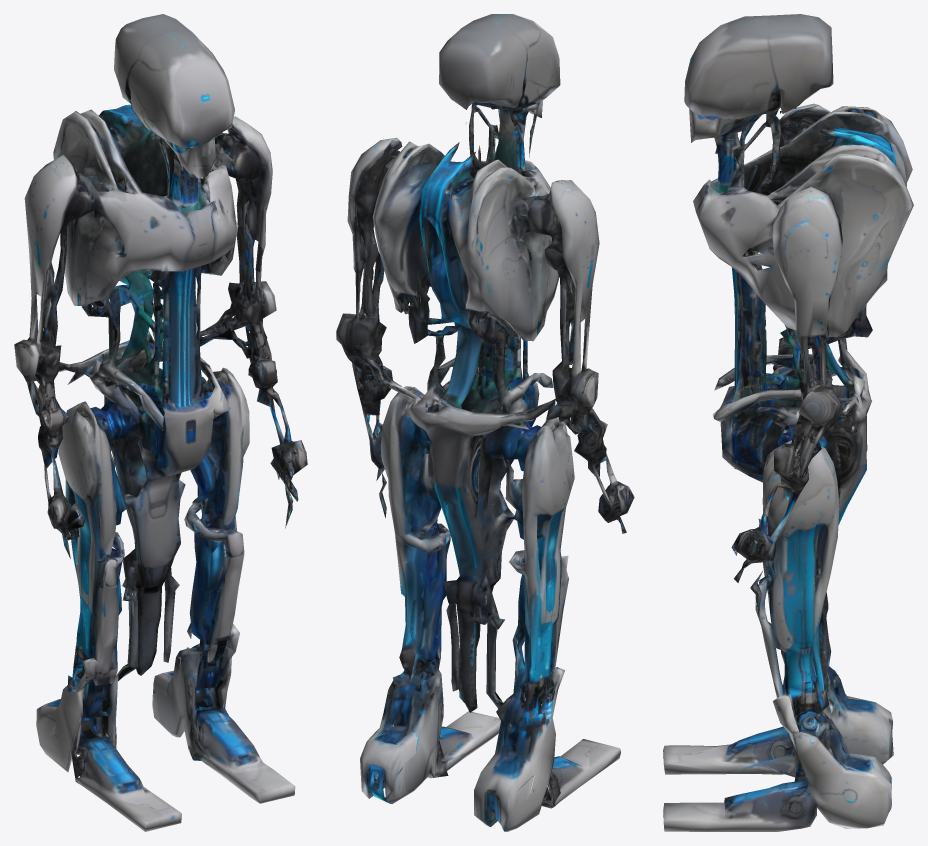
Rendered from Futuristic_Android_in_0521110720_texture.glb.
3 views of the same model, side by side, from view 1: azimuth 30°, elevation 25°; view 2: azimuth 150°, elevation 25°; view 3: azimuth 270°, elevation 25° (orthographic). The views are drawn at different scales.
Size of the model in its own units: 0.6784 by 1.94 by 0.5685.
1 material, 1 textured.
